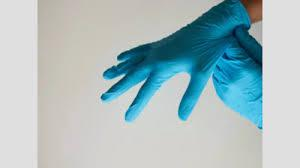Glove: (101, 0, 250, 121), (213, 27, 261, 128)
